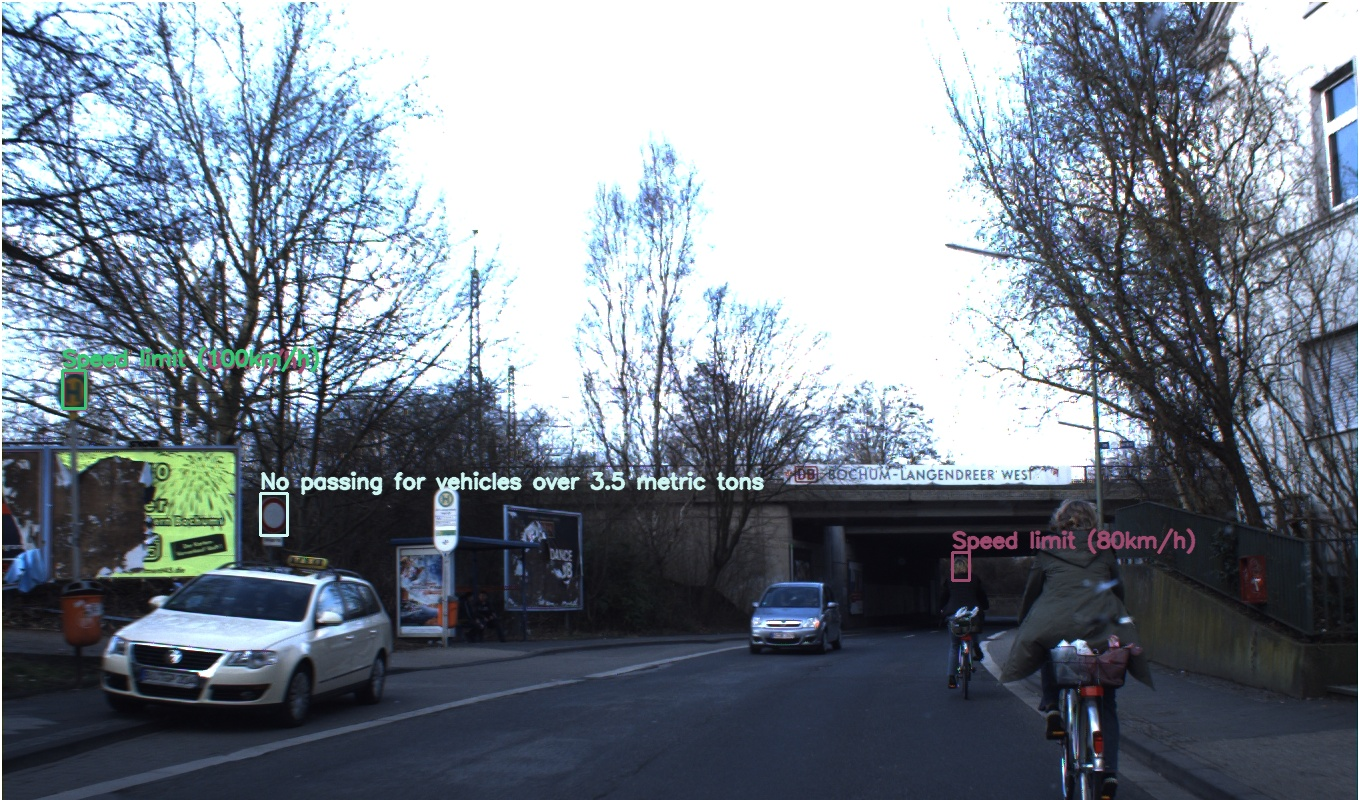Speed limit (30km/h): (814, 382, 848, 416)
